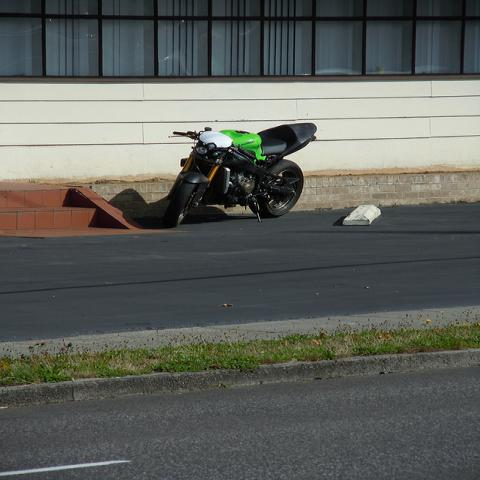motorcycle: (161, 123, 318, 228)
